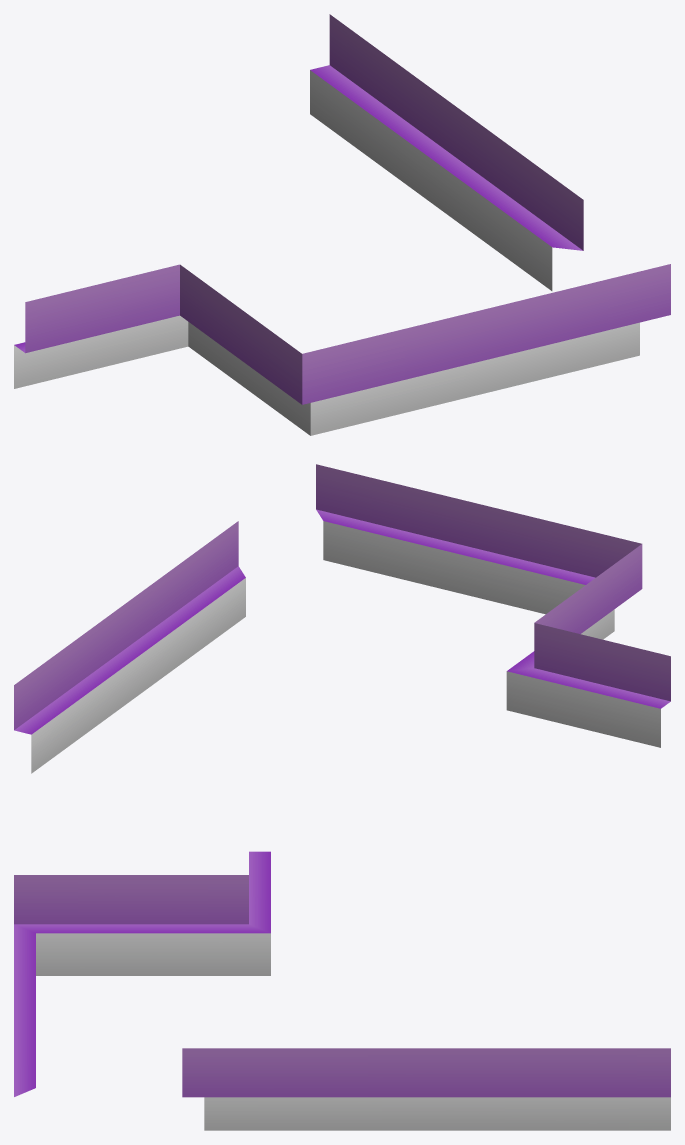
File: BPTop.fbx
3 renders of one model, top to bottom at view 1: azimuth 30°, elevation 25°; view 2: azimuth 150°, elevation 25°; view 3: azimuth 270°, elevation 25°, orthographic. The views are drawn at different scales.
Parts seen in each view (by area): view 1: polySurface4, polySurface5; view 2: polySurface4, polySurface5; view 3: polySurface5, polySurface4.
Boxes of the visible parts, x1,y1,x2,y2 form: polySurface4: [14, 264, 670, 435]; polySurface5: [310, 14, 583, 290]; polySurface4: [316, 464, 670, 747]; polySurface5: [14, 521, 245, 773]; polySurface5: [182, 1048, 670, 1130]; polySurface4: [14, 851, 270, 1096].
Bounding box in the file's own units: 750 × 131 × 848.
Materials: 1 (1 with a texture image).
